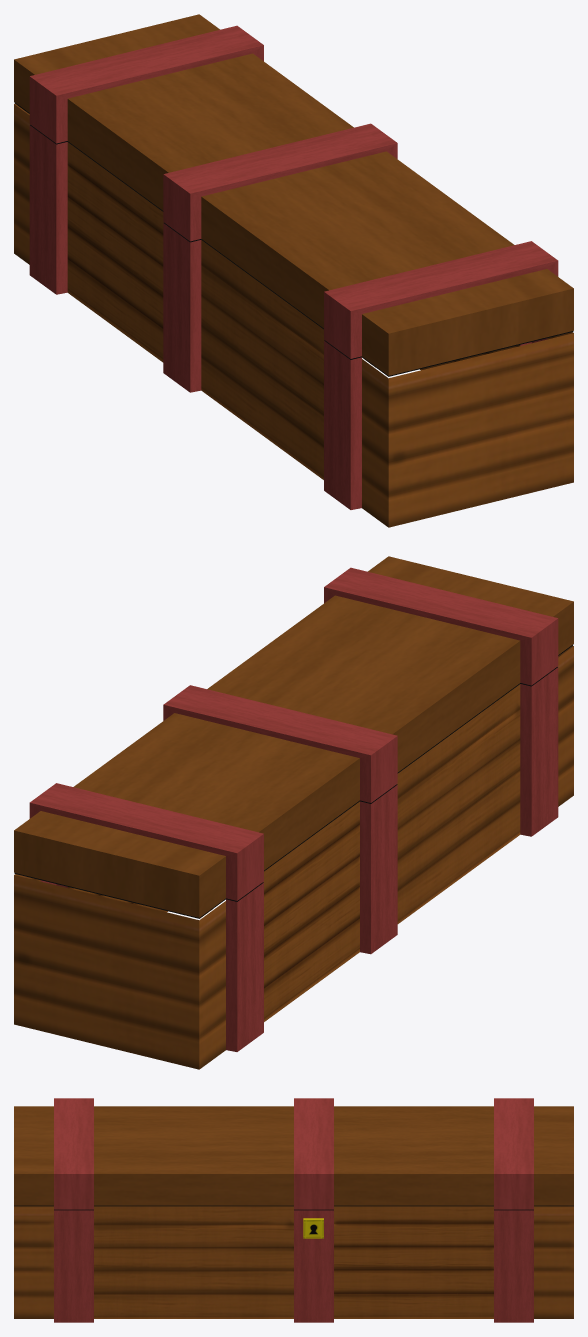
3 renders of one model, top to bottom at view 1: azimuth 30°, elevation 25°; view 2: azimuth 150°, elevation 25°; view 3: azimuth 270°, elevation 25°, orthographic. The views are drawn at different scales.
Visible parts, largest first — view 1: Caja; view 2: Caja; view 3: Caja.
Boxes of the visible parts, x1,y1,x2,y2 form: Caja: (14, 14, 573, 527); Caja: (14, 556, 573, 1069); Caja: (14, 1098, 573, 1322).
Size of the model in its own units: 183 by 165 by 560.
